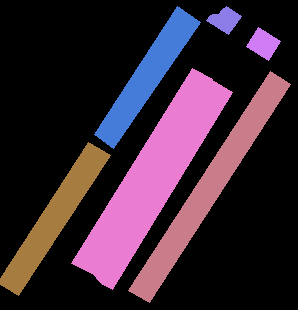parkingspot: (128, 71, 290, 302), (92, 80, 232, 289), (71, 68, 212, 274), (0, 142, 110, 295), (94, 6, 200, 148), (246, 27, 280, 60), (206, 6, 241, 34)
